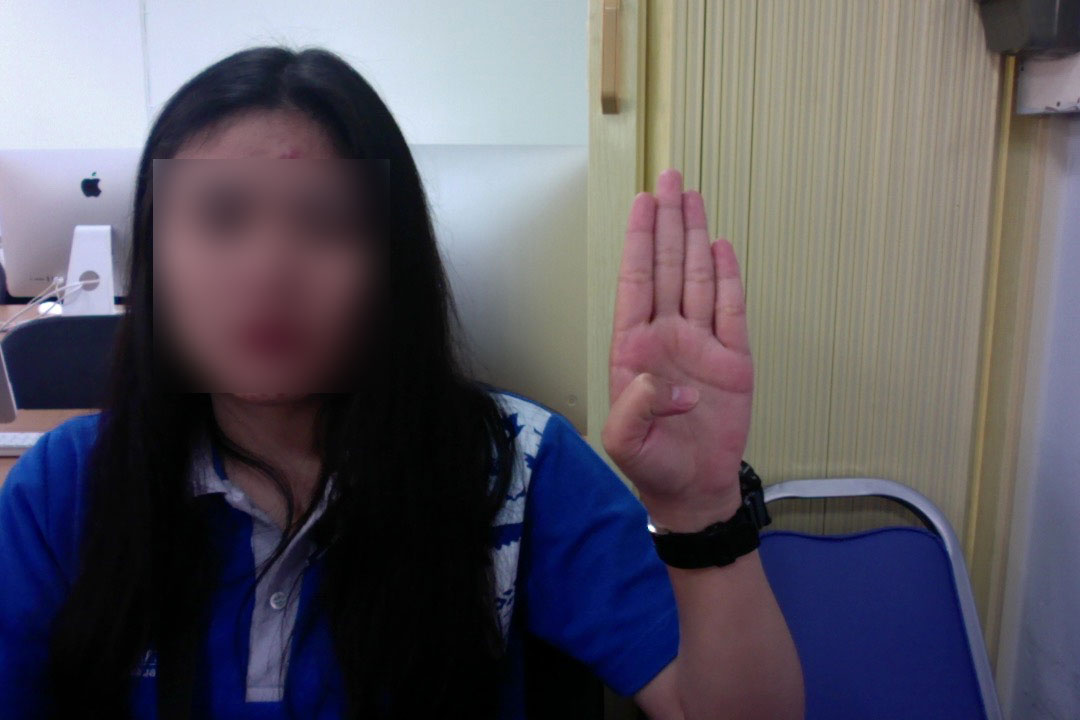bor: (594, 161, 761, 526)
